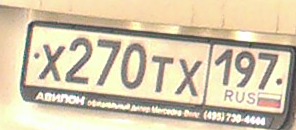character: (93, 35, 121, 90), (65, 35, 91, 87), (121, 41, 146, 92), (37, 43, 66, 83), (151, 53, 174, 97), (177, 58, 201, 99), (234, 48, 256, 92), (257, 50, 277, 94), (215, 46, 233, 87)
